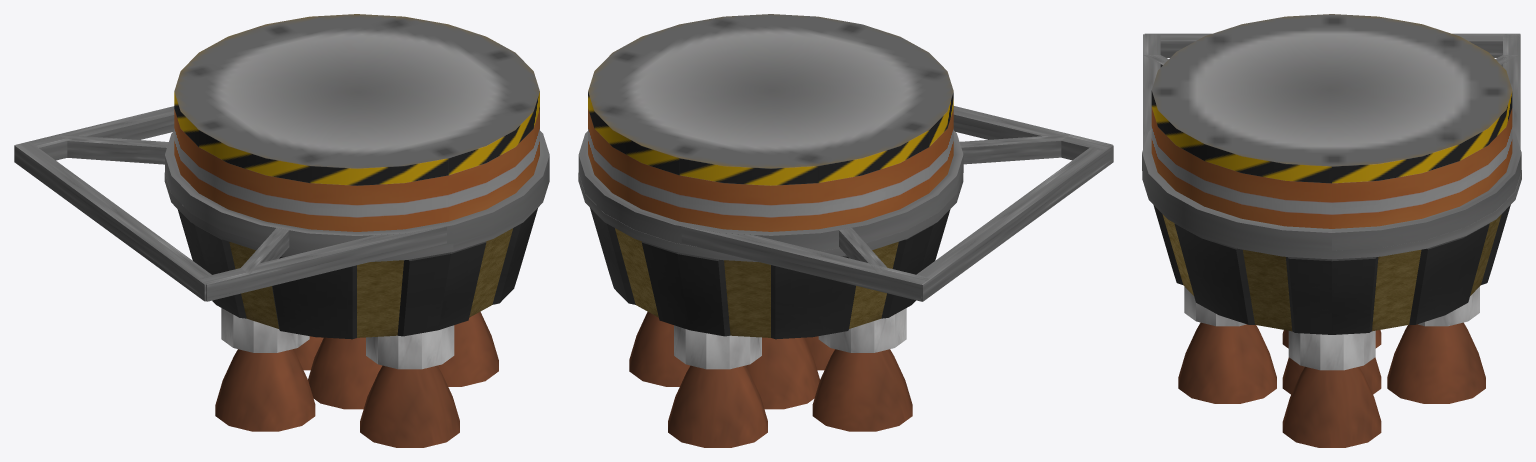
Rendered from AJ5ArcJet.FBX.
The picture shows the model from 3 angles, left to right: view 1: azimuth 30°, elevation 25°; view 2: azimuth 150°, elevation 25°; view 3: azimuth 270°, elevation 25°; orthographic projection.
Parts seen in each view (by area): view 1: Main Body, MountingBracketBand001, Cylinder011, Cylinder004, Foil, Box003, Box006, Cylinder003, Cylinder007, Cylinder005, Box001, BarrelBand003 (+4 smaller); view 2: Main Body, MountingBracketBand001, Cylinder011, Cylinder009, Foil, Box003, Box001, Cylinder003, Cylinder007, Cylinder008, Box006, BarrelBand003 (+4 smaller); view 3: Main Body, MountingBracketBand001, Foil, Cylinder007, Cylinder004, Cylinder009, BarrelBand003, Cylinder006, Box003, Box001, Box006, Cylinder003 (+2 smaller).
Boxes of the visible parts, bbox=[...] form: Main Body: bbox=[174, 14, 539, 339]; MountingBracketBand001: bbox=[165, 131, 549, 251]; Cylinder011: bbox=[215, 349, 315, 431]; Cylinder004: bbox=[360, 365, 459, 447]; Foil: bbox=[229, 228, 512, 337]; Box003: bbox=[14, 142, 211, 301]; Box006: bbox=[198, 226, 446, 301]; Cylinder003: bbox=[308, 337, 382, 409]; Cylinder007: bbox=[437, 311, 498, 386]; Cylinder005: bbox=[366, 325, 454, 369]; Box001: bbox=[17, 106, 174, 160]; BarrelBand003: bbox=[164, 172, 549, 261]; Main Body: bbox=[588, 14, 953, 339]; MountingBracketBand001: bbox=[578, 130, 963, 251]; Cylinder011: bbox=[812, 349, 912, 431]; Cylinder009: bbox=[668, 365, 767, 447]; Foil: bbox=[615, 228, 898, 337]; Box003: bbox=[908, 145, 1113, 301]; Box001: bbox=[681, 226, 929, 301]; Cylinder003: bbox=[745, 337, 819, 409]; Cylinder007: bbox=[629, 311, 690, 386]; Cylinder008: bbox=[674, 325, 761, 369]; Box006: bbox=[953, 106, 1112, 160]; BarrelBand003: bbox=[578, 173, 963, 261]; Main Body: bbox=[1151, 14, 1512, 334]; MountingBracketBand001: bbox=[1142, 129, 1521, 250]; Foil: bbox=[1162, 214, 1501, 331]; Cylinder007: bbox=[1282, 366, 1381, 447]; Cylinder004: bbox=[1178, 322, 1276, 403]; Cylinder009: bbox=[1387, 322, 1485, 403]; BarrelBand003: bbox=[1142, 170, 1521, 259]; Cylinder006: bbox=[1288, 330, 1375, 370]; Box003: bbox=[1145, 33, 1520, 57]; Box001: bbox=[1503, 34, 1520, 148]; Box006: bbox=[1143, 34, 1160, 148]; Cylinder003: bbox=[1282, 357, 1381, 394].
Size of what is drawn, in the model's own units: 0.8175 by 0.6584 by 0.5599.
Materials: 1 (1 with a texture image).
